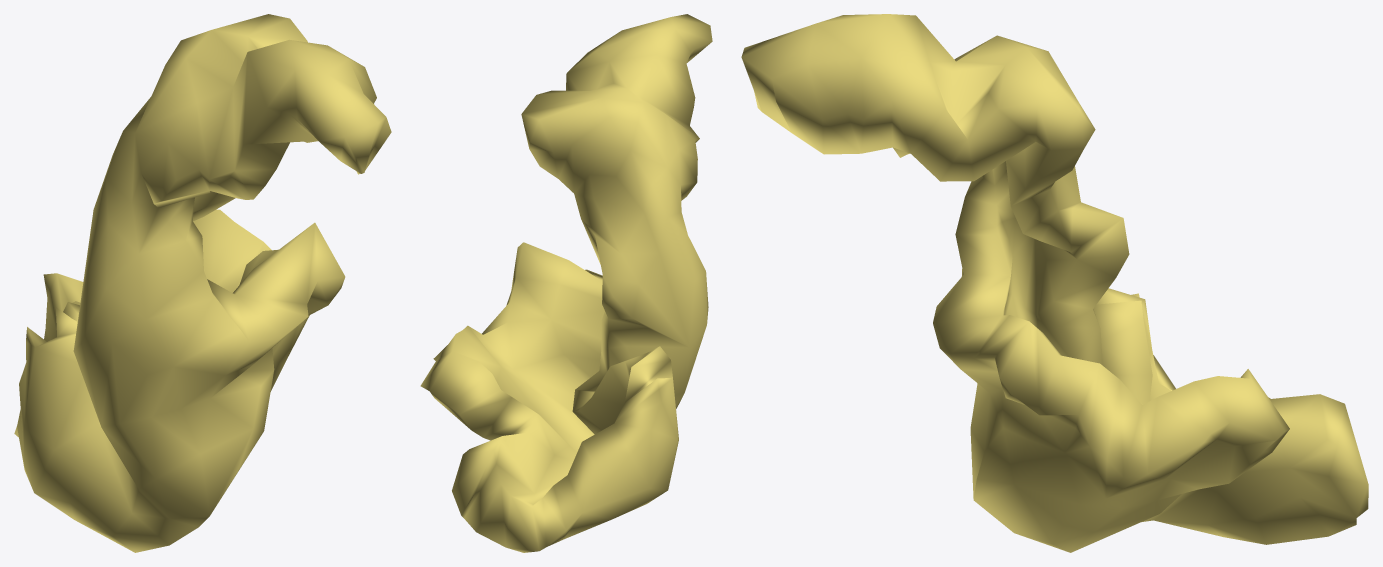
File: opercular-part-of-inferior-frontal-gyrus-r.glb
3 views of the same model, side by side, from view 1: azimuth 30°, elevation 25°; view 2: azimuth 150°, elevation 25°; view 3: azimuth 270°, elevation 25° (orthographic). The views are drawn at different scales.
Visible parts, largest first — view 1: Opercular part of inferior frontal gyrus.r; view 2: Opercular part of inferior frontal gyrus.r; view 3: Opercular part of inferior frontal gyrus.r.
Boxes of the visible parts, box(x1,y1,x2,y2) form: Opercular part of inferior frontal gyrus.r: box(14, 14, 391, 552); Opercular part of inferior frontal gyrus.r: box(420, 14, 712, 552); Opercular part of inferior frontal gyrus.r: box(741, 14, 1368, 552).
Bounding box in the file's own units: 0.0226 × 0.0393 × 0.0398.
